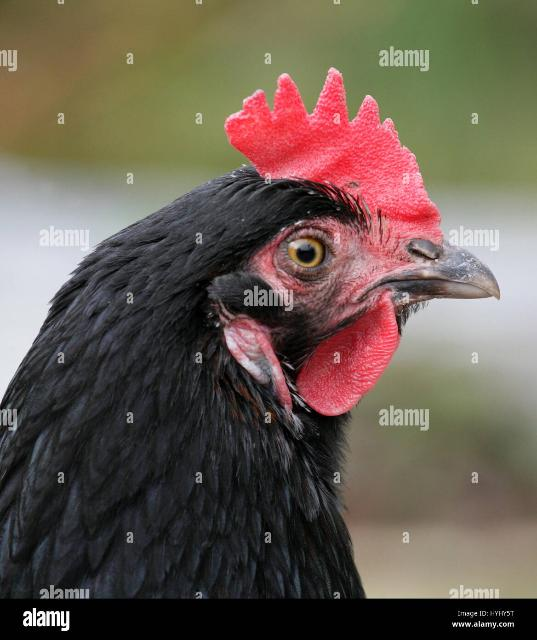Chicken: (0, 64, 503, 600)
